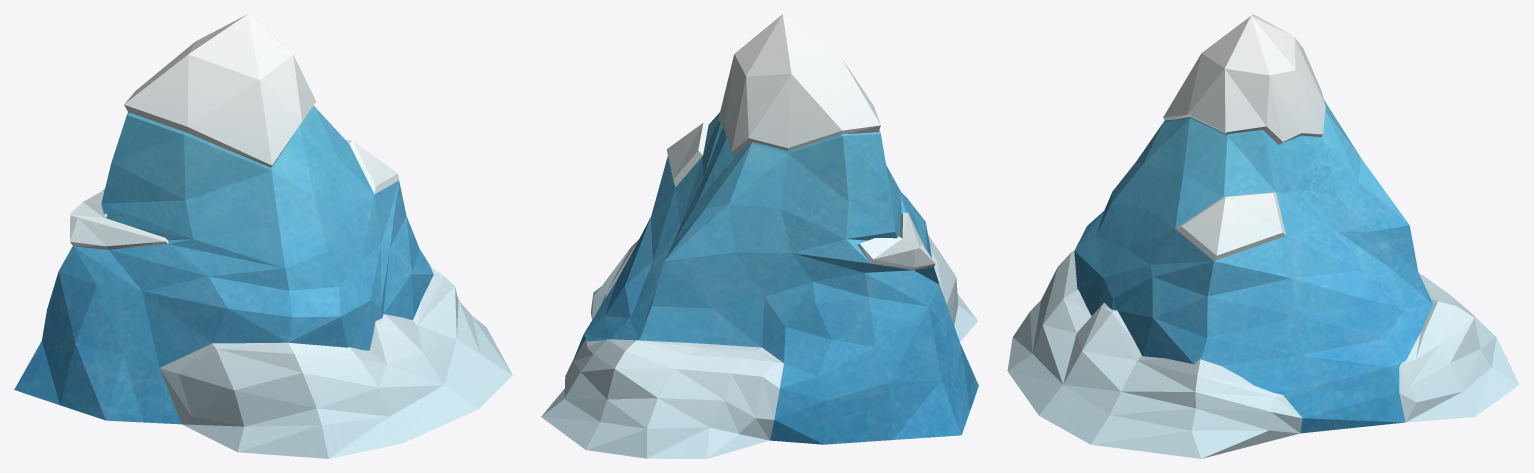
Rendered from HX-Bingshan1.FBX.
3 renders of one model, left to right at view 1: azimuth 30°, elevation 25°; view 2: azimuth 150°, elevation 25°; view 3: azimuth 270°, elevation 25°, orthographic. The views are drawn at different scales.
Parts seen in each view (by area): view 1: bingshan1, jixue1; view 2: bingshan1, jixue1; view 3: bingshan1, jixue1.
Boxes of the visible parts, bbox=[...] form: bingshan1: bbox=[14, 105, 433, 424]; jixue1: bbox=[70, 14, 512, 458]; bingshan1: bbox=[574, 112, 978, 444]; jixue1: bbox=[541, 14, 977, 458]; bingshan1: bbox=[1074, 100, 1432, 433]; jixue1: bbox=[1007, 14, 1519, 458].
Size of the model in its own units: 12316 by 9738 by 13254.
